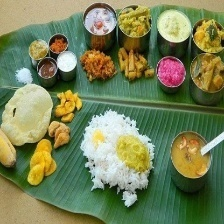rice: (79, 112, 156, 206)
